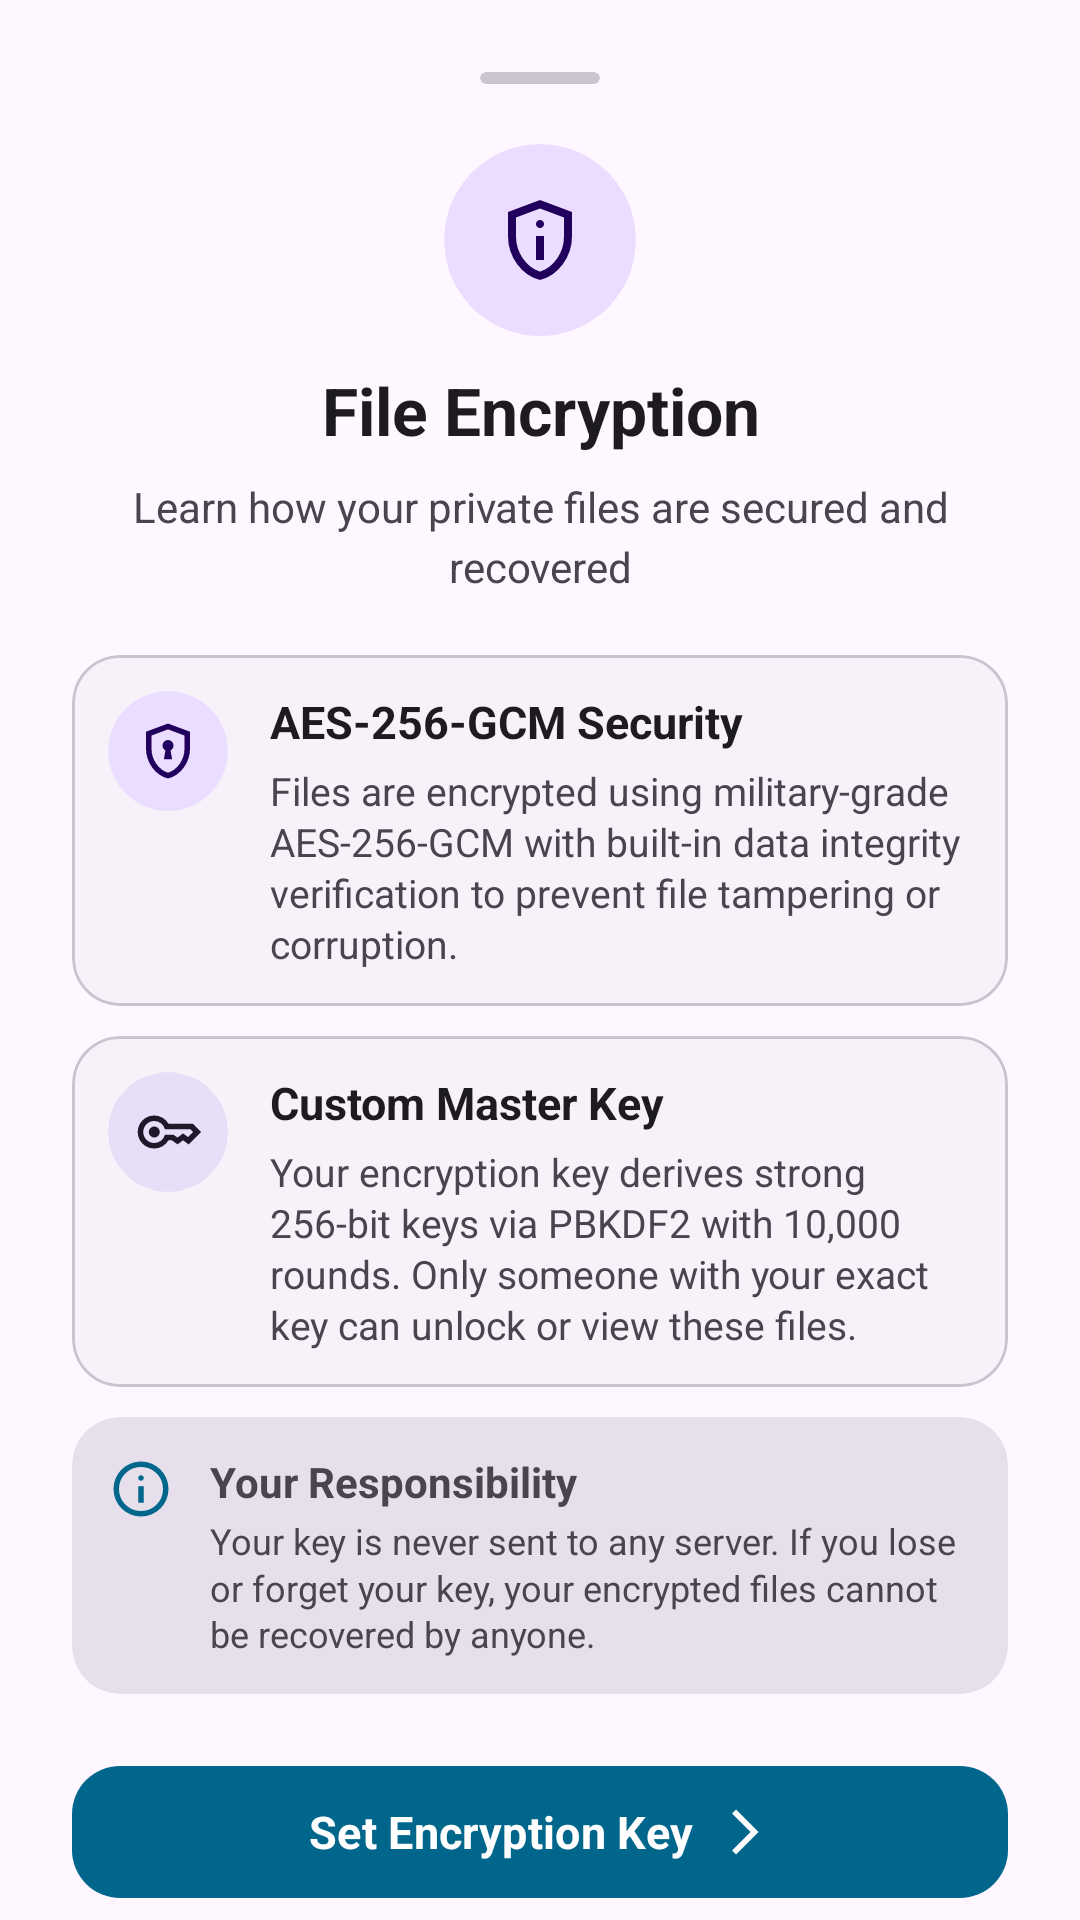

Icons on this 1080px×1920px Android screen, each with the point to tap as [x,y]:
info: [141,1489]
privacy tip: [540,240]
